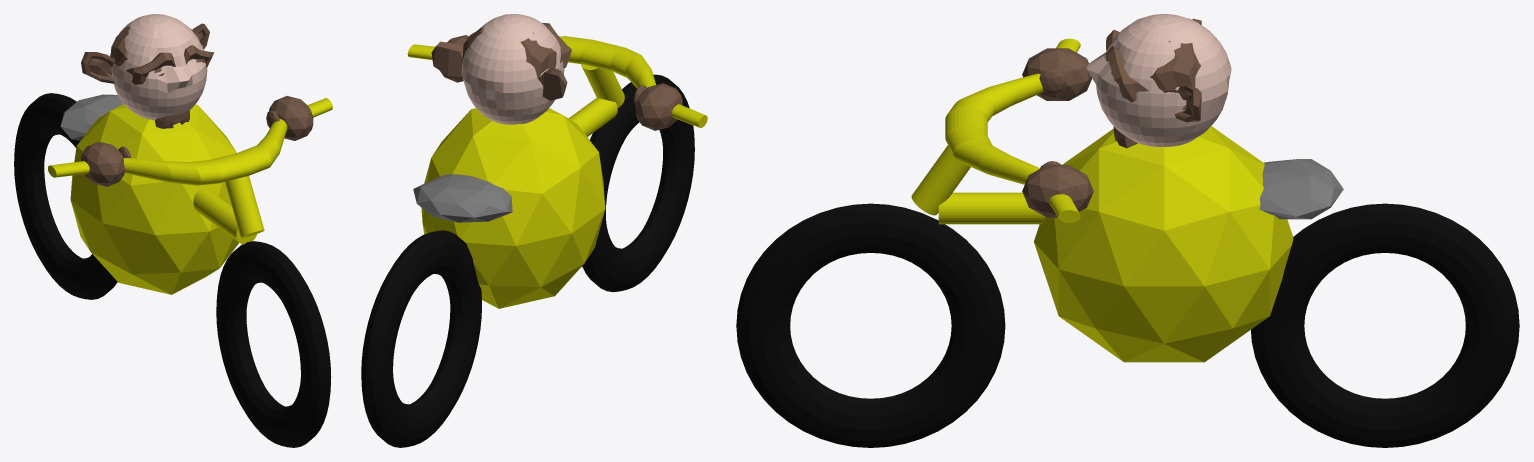
The model's file is yellowBike.fbx.
3 renders of one model, left to right at view 1: azimuth 30°, elevation 25°; view 2: azimuth 150°, elevation 25°; view 3: azimuth 270°, elevation 25°, orthographic. The views are drawn at different scales.
Visible parts, largest first — view 1: Icosphere.004, Torus.001, Torus.000, Sphere, Cylinder, Suzanne, Icosphere.005, Cylinder.002, Icosphere.003, Cylinder.001, Icosphere; view 2: Icosphere.004, Torus.000, Torus.001, Sphere, Icosphere.005, Cylinder, Suzanne, Icosphere.003, Cylinder.001, Cylinder.002; view 3: Icosphere.004, Torus.001, Torus.000, Sphere, Cylinder, Icosphere.005, Suzanne, Cylinder.001, Icosphere, Icosphere.003, Cylinder.002.
Boxes of the visible parts, x1,y1,x2,y2 form: Icosphere.004: (70, 104, 238, 294); Torus.001: (216, 241, 330, 447); Torus.000: (14, 93, 117, 299); Sphere: (110, 14, 207, 120); Cylinder: (48, 98, 332, 185); Suzanne: (81, 23, 214, 128); Icosphere.005: (60, 94, 123, 140); Cylinder.002: (225, 176, 264, 237); Icosphere.003: (80, 141, 125, 186); Cylinder.001: (193, 188, 256, 244); Icosphere: (269, 96, 313, 140); Icosphere.004: (421, 108, 605, 308); Torus.000: (361, 230, 481, 447); Torus.001: (582, 74, 694, 292); Sphere: (461, 14, 564, 124); Icosphere.005: (413, 174, 512, 222); Cylinder: (407, 36, 707, 127); Suzanne: (431, 22, 571, 100); Icosphere.003: (635, 83, 682, 130); Cylinder.001: (568, 98, 617, 136); Cylinder.002: (580, 64, 624, 107); Icosphere.004: (1034, 126, 1293, 362); Torus.001: (736, 203, 1005, 447); Torus.000: (1251, 203, 1519, 447); Sphere: (1086, 14, 1231, 146); Cylinder: (945, 38, 1080, 223); Icosphere.005: (1259, 159, 1343, 219); Suzanne: (1106, 18, 1201, 148); Cylinder.001: (938, 192, 1045, 224); Icosphere: (1022, 165, 1093, 217); Icosphere.003: (1022, 48, 1091, 100); Cylinder.002: (911, 145, 970, 215).
Size of the model in its own units: 5.91 by 6.89 by 11.41.
